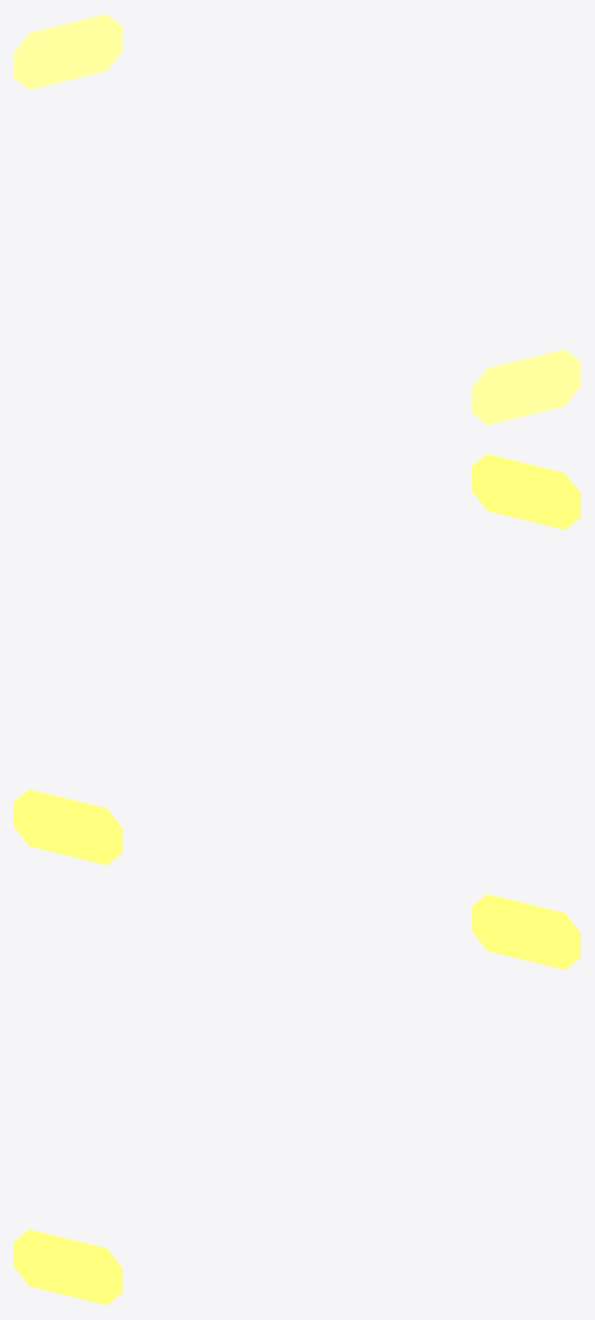
Rendered from sedan-sports-lights.glb.
The picture shows the model from 3 angles, top to bottom: view 1: azimuth 30°, elevation 25°; view 2: azimuth 150°, elevation 25°; view 3: azimuth 330°, elevation 25°; orthographic projection.
Visible parts, largest first — view 1: lights; view 2: lights; view 3: lights.
Part boxes in pixels (x1,y1,x2,y2): lights: [14, 14, 580, 425]; lights: [14, 454, 580, 865]; lights: [14, 894, 580, 1305].
Bounding box in the file's own units: 0.35 × 0.175 × 2.55.
